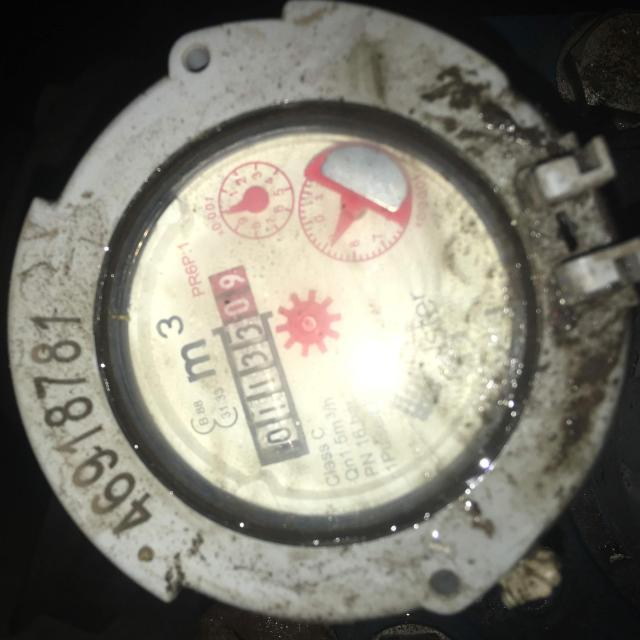gaz_meter: (126, 125, 517, 527)
indication: (202, 260, 305, 457)
